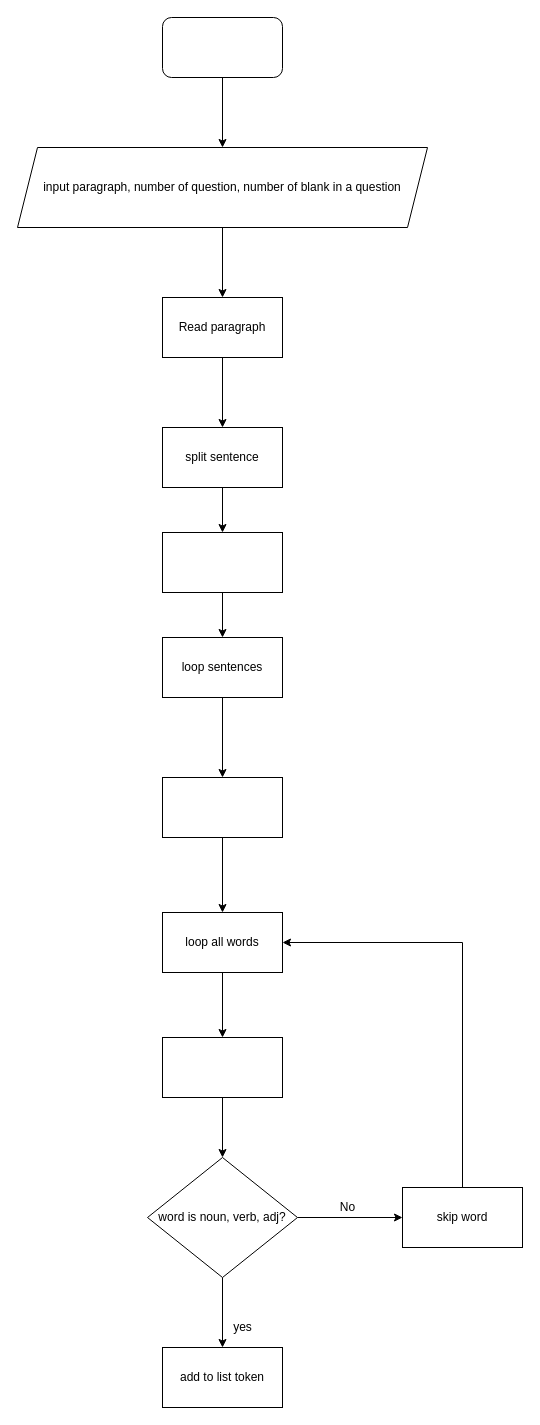
Some shapes in this 540 by 1425 pixel diagram are drawn without their labels. The shapes that lost their labels are listed below. From the top down, each one's centre as x and y in pixels, then its label:
the point at 222,47: Start
the point at 222,562: mixing sentences
the point at 222,807: split words
the point at 222,1067: search word in dictionary
